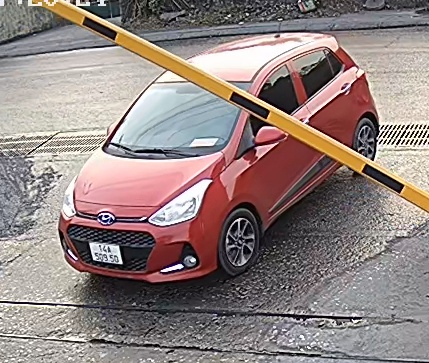vehicle plate: (82, 238, 124, 268)
